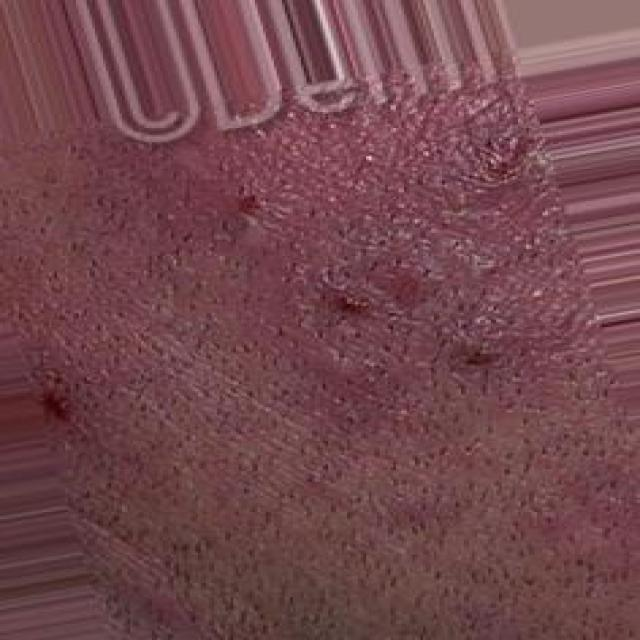Rosacea: (93, 91, 578, 397)
